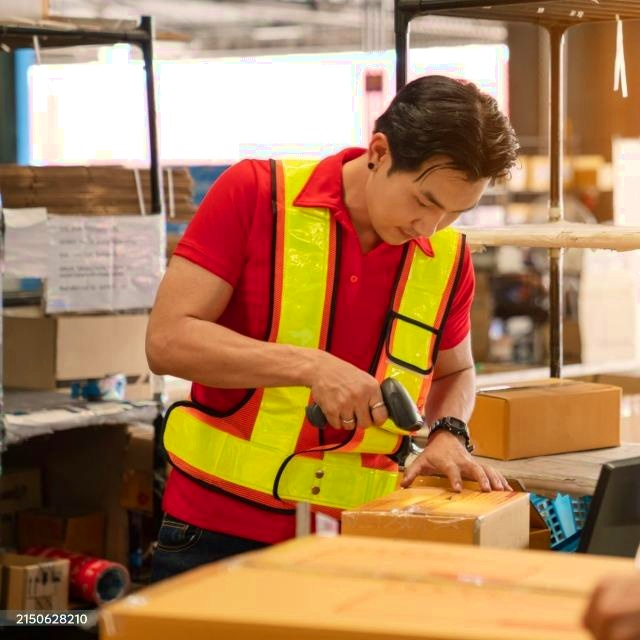Con_Chaleco: (162, 159, 452, 522)
Sin_Casco_Mascarrilla: (370, 78, 519, 244)
